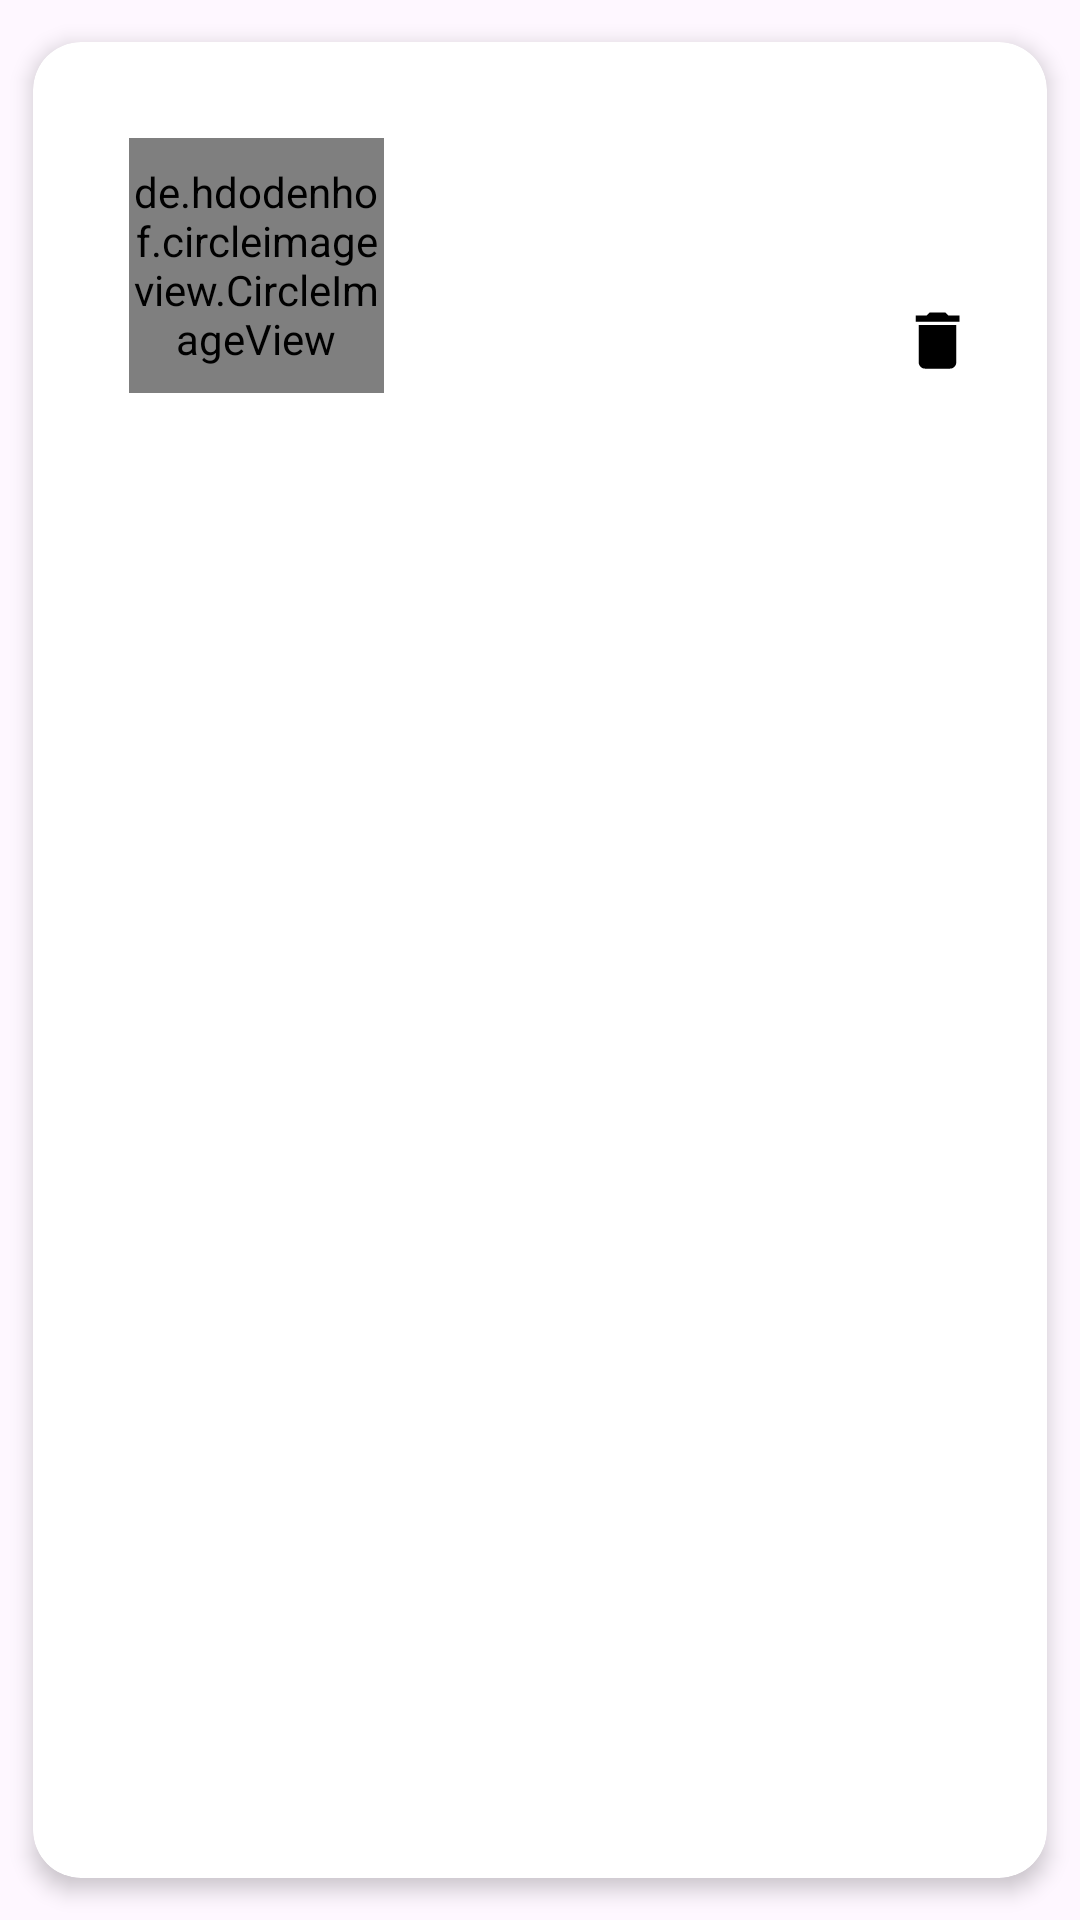

Icons on this 1080 x 1920 Android screen, each with its box as (x1, y1, x2, y2):
delete: (915, 312, 960, 369)
